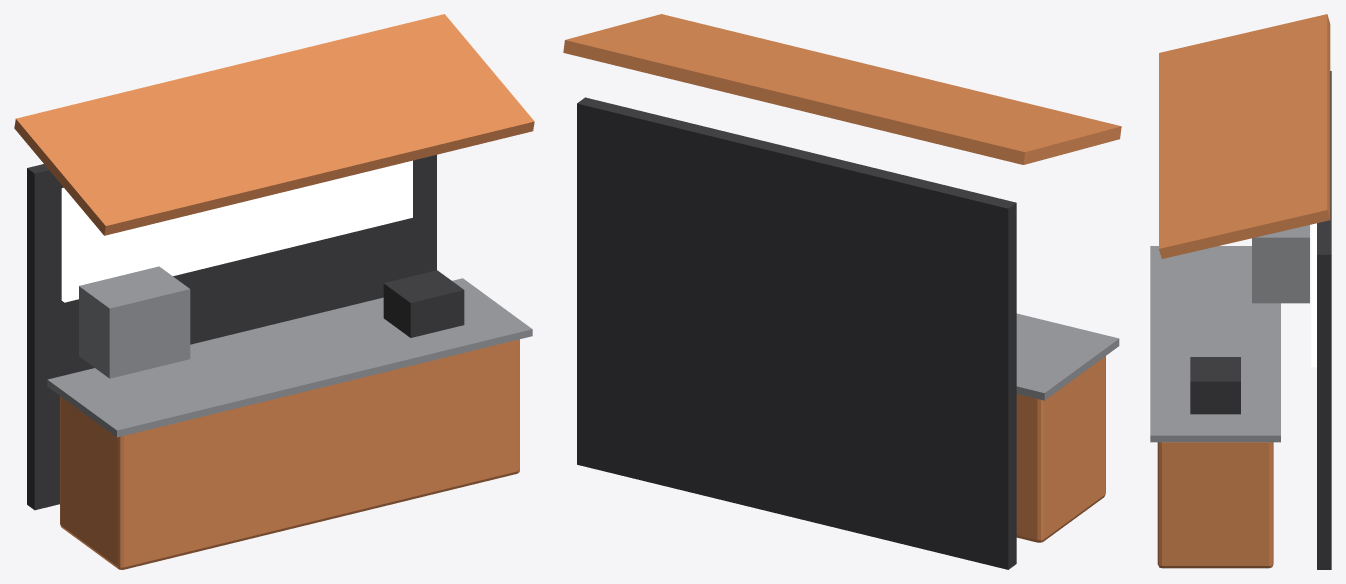
The model's file is food_stall.glb.
3 renders of one model, left to right at view 1: azimuth 30°, elevation 25°; view 2: azimuth 150°, elevation 25°; view 3: azimuth 270°, elevation 25°, orthographic. The views are drawn at different scales.
Visible parts, largest first — view 1: food_stall; view 2: food_stall; view 3: food_stall.
Part boxes in pixels (bbox=[...]): food_stall: bbox=[14, 14, 534, 569]; food_stall: bbox=[563, 14, 1121, 569]; food_stall: bbox=[1150, 14, 1331, 569].
Bounding box in the file's own units: 3.2 × 2.79 × 1.25.
